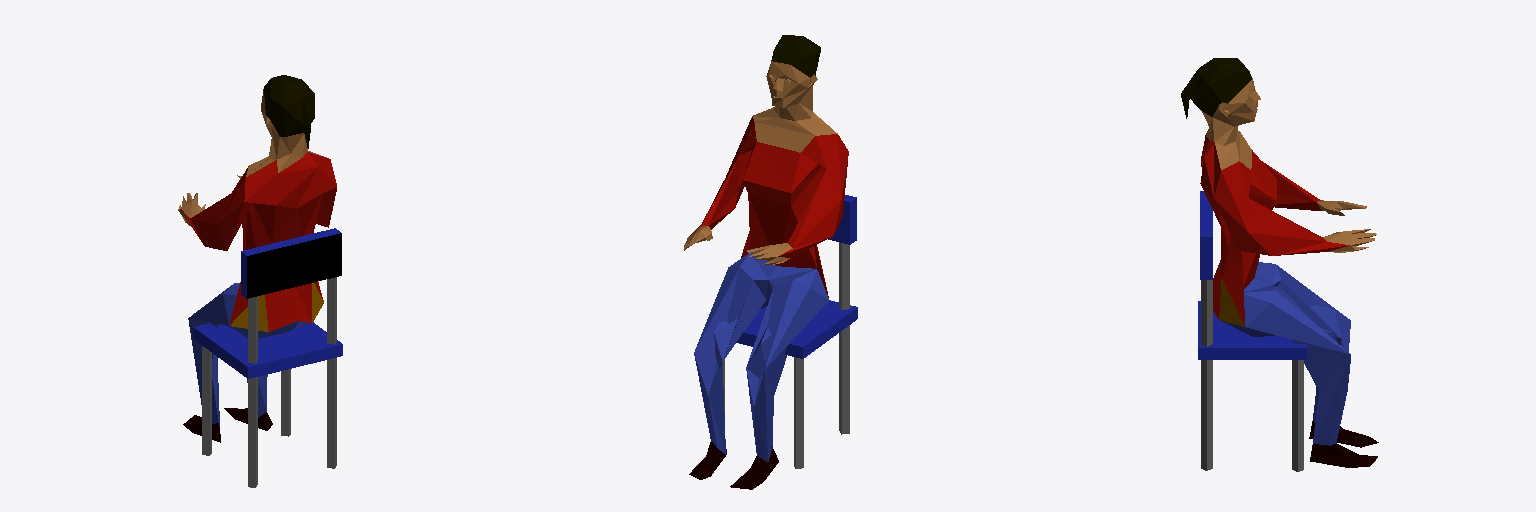
The model's file is personsitlowpoly.obj.
3 views of the same model, side by side, from view 1: azimuth 30°, elevation 25°; view 2: azimuth 150°, elevation 25°; view 3: azimuth 270°, elevation 25° (orthographic).
Visible parts, largest first — view 1: Cube, Cube.001_Cube.002; view 2: Cube, Cube.001_Cube.002; view 3: Cube, Cube.001_Cube.002.
Boxes of the visible parts, box(x1,y1,x2,y2) form: Cube: box(178, 75, 336, 442); Cube.001_Cube.002: box(193, 228, 342, 487); Cube: box(684, 35, 848, 489); Cube.001_Cube.002: box(723, 195, 857, 468); Cube: box(1181, 58, 1378, 467); Cube.001_Cube.002: box(1198, 191, 1306, 471).
Bounding box in the file's own units: 23.13 × 74.2 × 34.